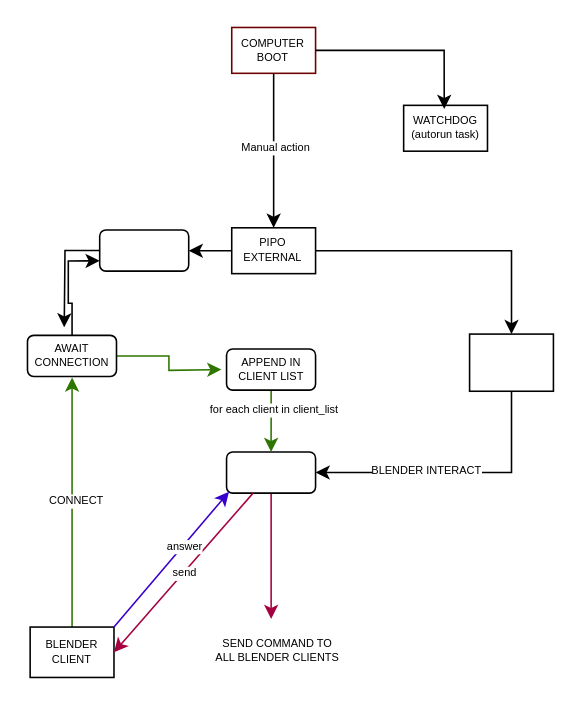
This 581x705 diagram has some shape labels left out. The box of each missing label's shape, as (x1, y1, x2, y2) in pixels:
create socket server: (98, 228, 189, 271)
MAIN PROGRAM INTERFACE: (468, 333, 553, 391)
SEND COMMAND: (225, 450, 316, 493)
